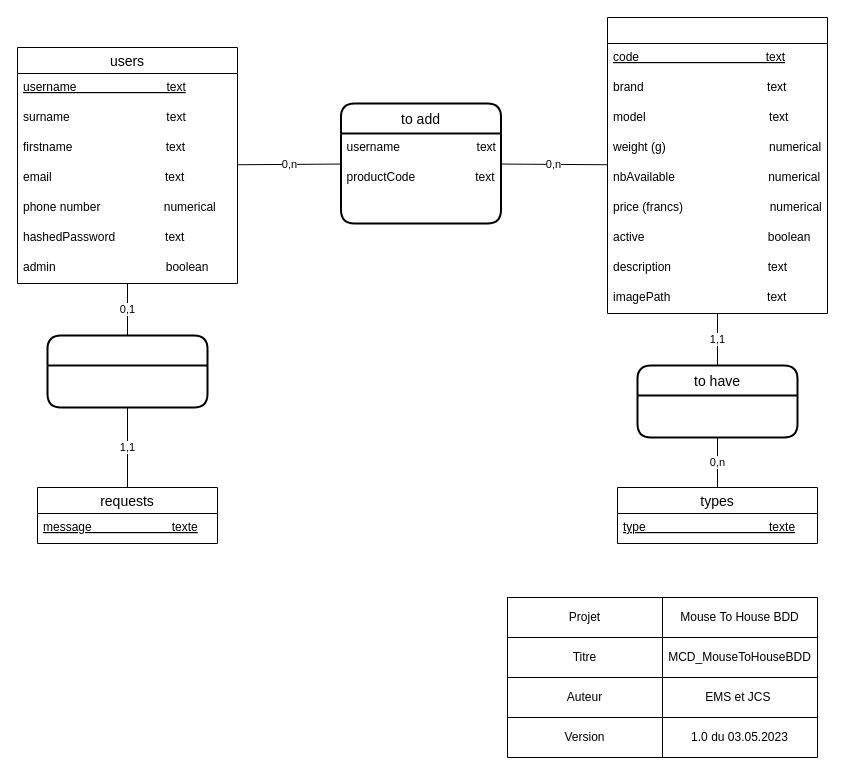
This 845x775 diagram has some shape labels left out. Here are the shapes that lost their labels. From the top down, the box of each, then its label:
(606, 16, 828, 314): products
(46, 334, 208, 408): to send
